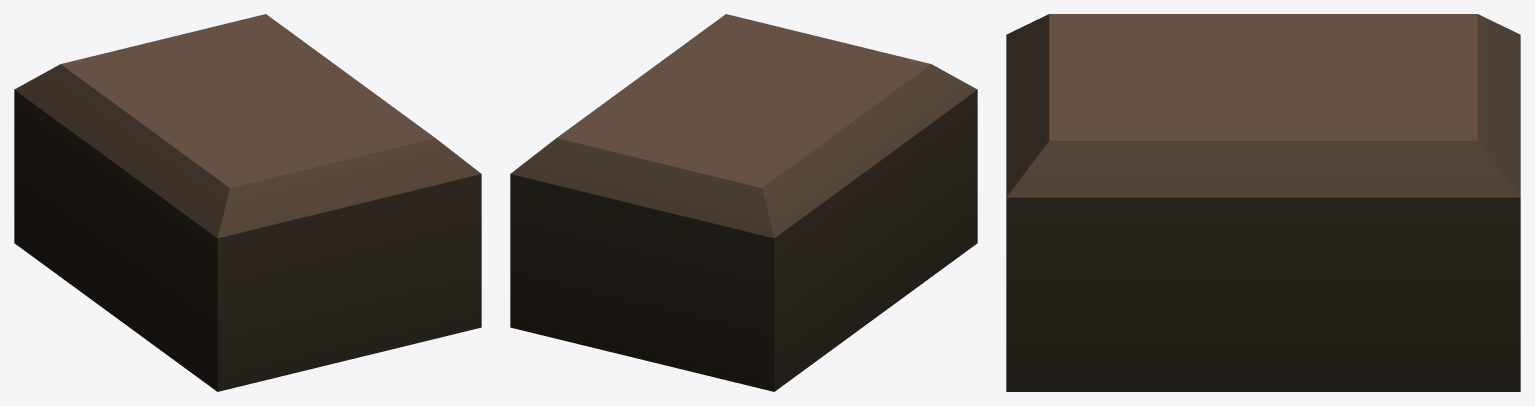
File: offshore-pump.glb
The picture shows the model from 3 angles, left to right: view 1: azimuth 30°, elevation 25°; view 2: azimuth 150°, elevation 25°; view 3: azimuth 270°, elevation 25°; orthographic projection. The views are drawn at different scales.
Visible parts, largest first — view 1: offshore-pump; view 2: offshore-pump; view 3: offshore-pump.
Boxes of the visible parts, <box> form: offshore-pump: <box>14,14,481,391</box>; offshore-pump: <box>510,14,977,391</box>; offshore-pump: <box>1006,14,1520,391</box>.
Bounding box in the file's own units: 0.18 × 0.12 × 0.24.
